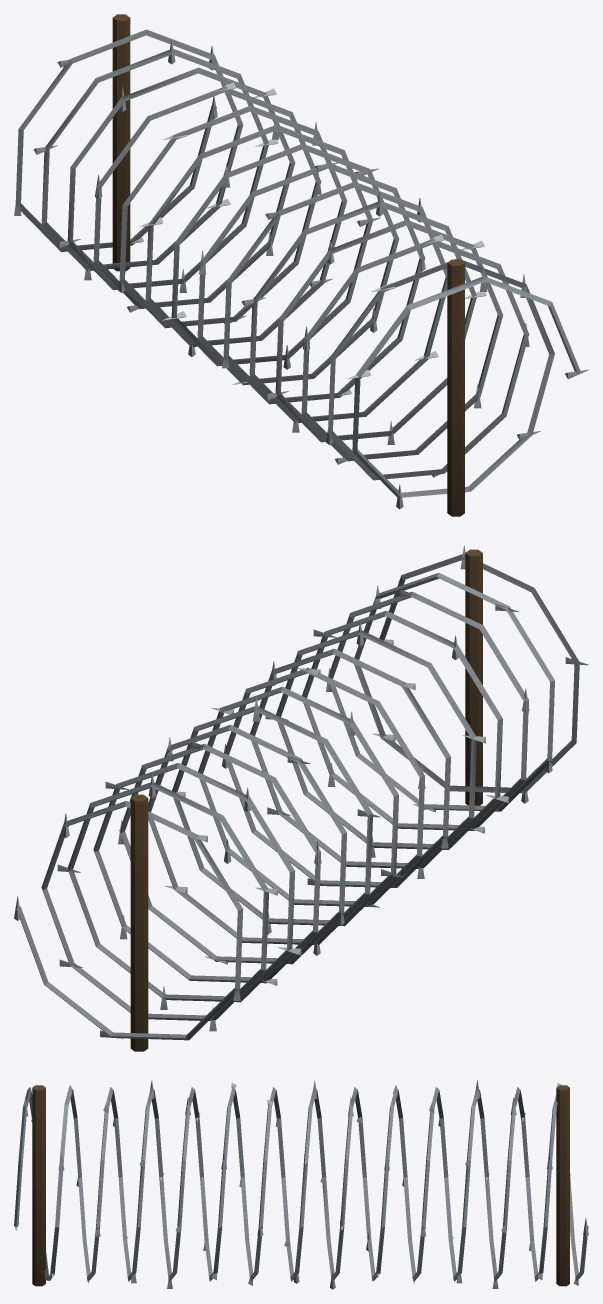
The model's file is barbed_coil.glb.
The picture shows the model from 3 angles, top to bottom: view 1: azimuth 30°, elevation 25°; view 2: azimuth 150°, elevation 25°; view 3: azimuth 270°, elevation 25°; orthographic projection. The views are drawn at different scales.
Parts seen in each view (by area): view 1: Body; view 2: Body; view 3: Body.
Part boxes in pixels (x1,y1,x2,y2): Body: (14,14,588,516); Body: (14,545,588,1051); Body: (14,1080,588,1289).
Bounding box in the file's own units: 0.7295 × 0.76 × 2.02.
